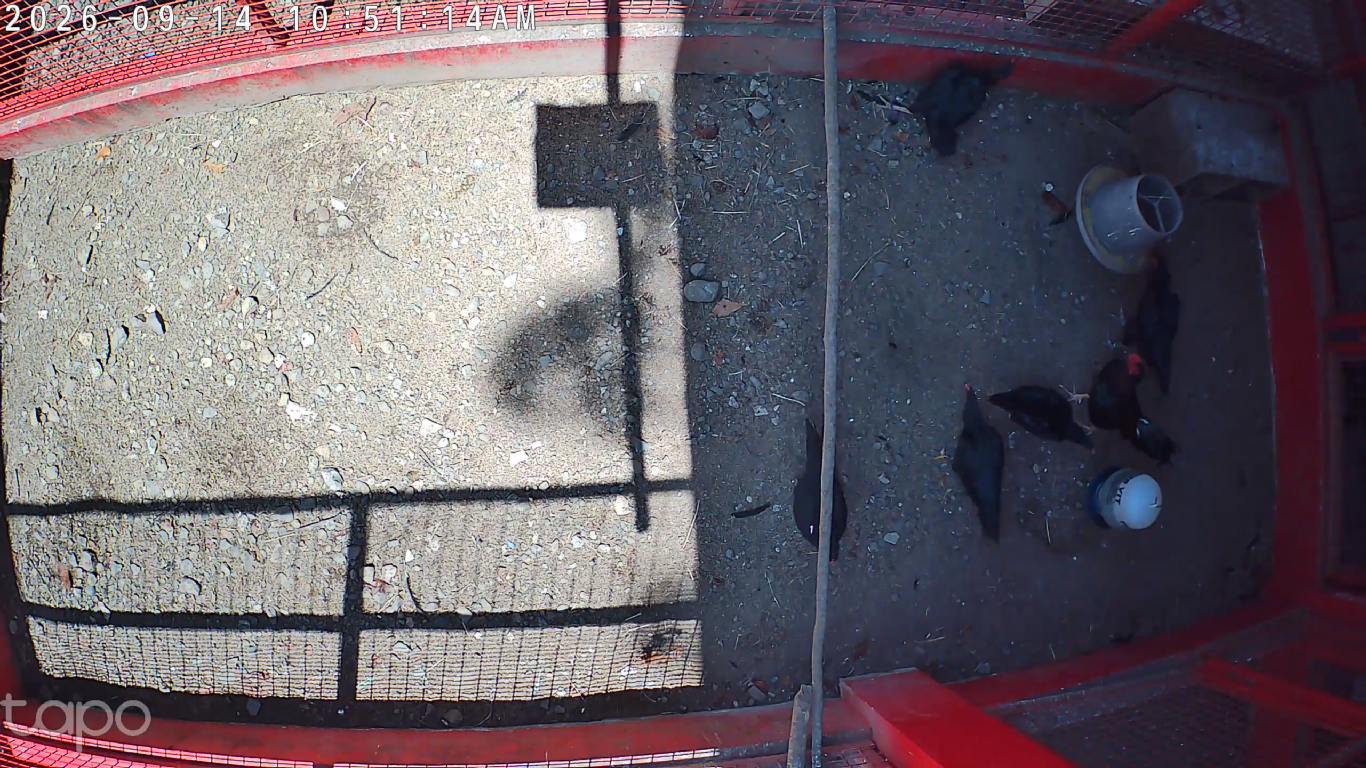Chicken: (874, 55, 1019, 159), (1094, 241, 1181, 402), (928, 377, 1009, 546), (786, 415, 854, 570), (982, 382, 1099, 450)
Drinker: (1087, 464, 1164, 535)
Feeder: (1074, 164, 1184, 275)
Rooster: (1057, 348, 1179, 477)
